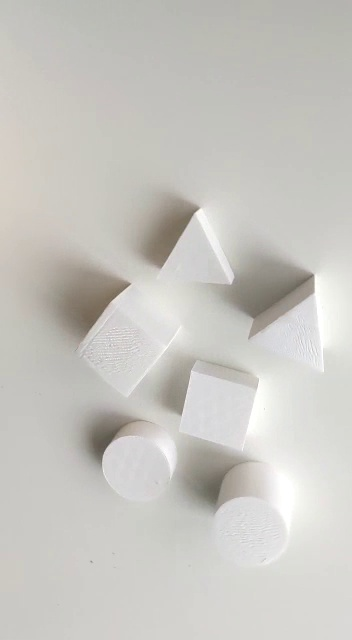Clyinder_short: (98, 417, 180, 506)
Cube: (68, 278, 183, 405)
Cube_short: (175, 354, 259, 451)
Cylinder: (207, 459, 296, 569)
Triangle: (247, 265, 329, 381)
Triangle_short: (153, 203, 238, 291)
